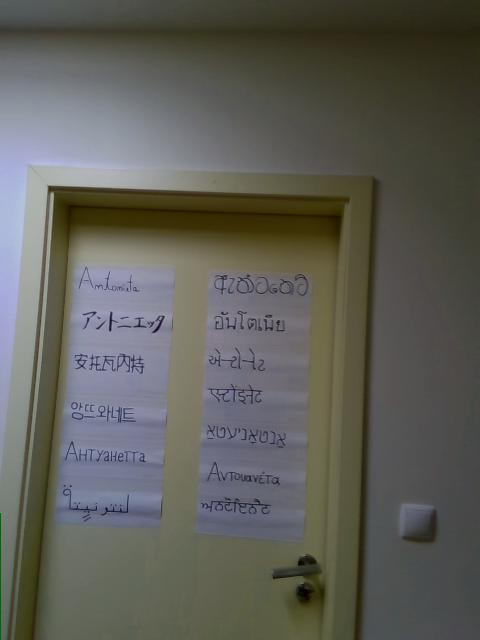closed_door: (1, 162, 379, 639)
